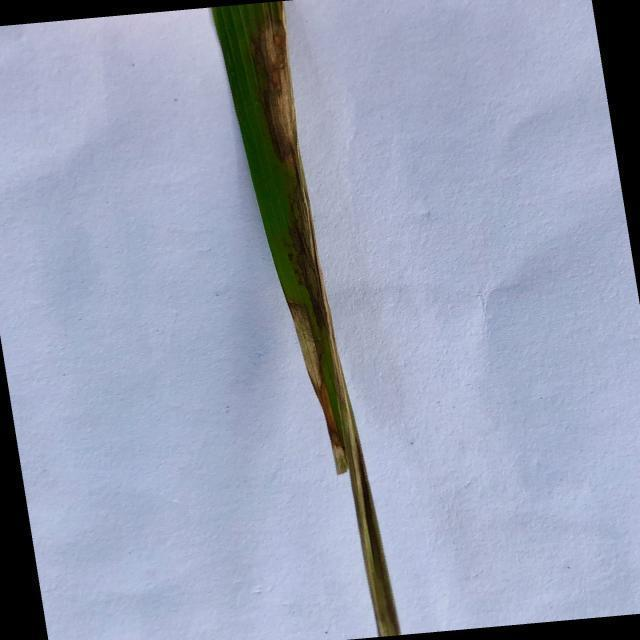Bacterial_Leaf_Blight: (289, 302, 401, 637), (258, 11, 301, 156)
